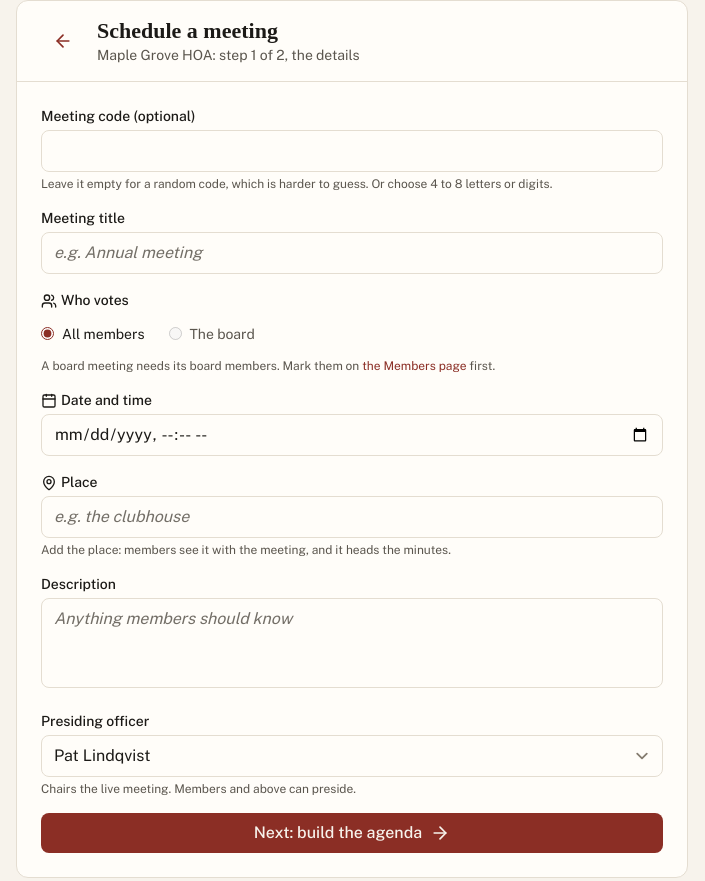
Test: MeetingScheduler › shows the server's message when the packet can't be created
Step 1. Type "Annual Meeting" into the field labelled "Meeting title" → (352,252), box x1=41 y1=232 x2=663 y2=274
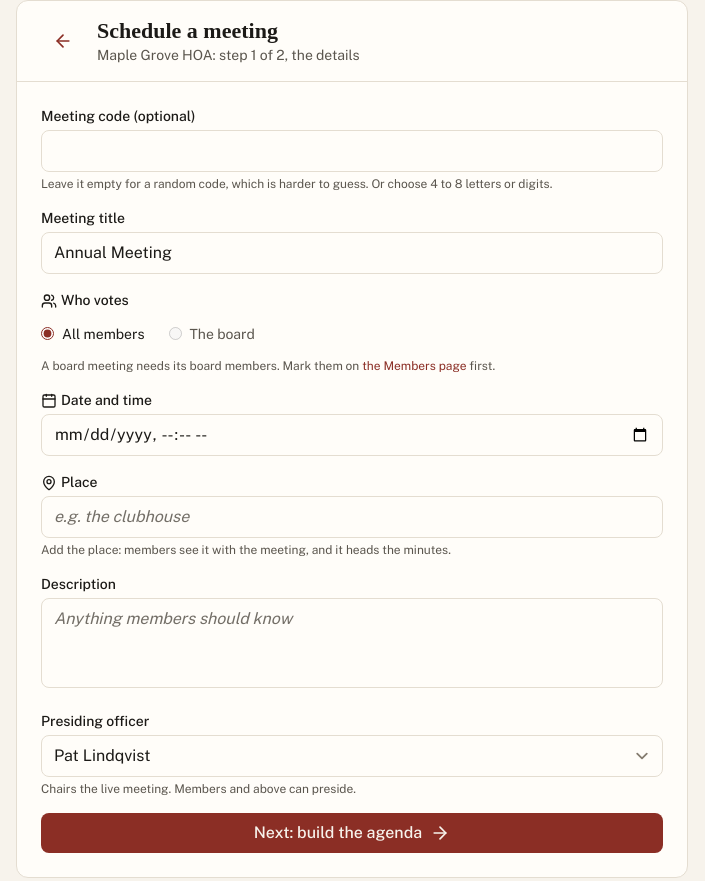
Step 2. Click the button "Next: build the agenda" → (352,832), box x1=41 y1=812 x2=663 y2=852
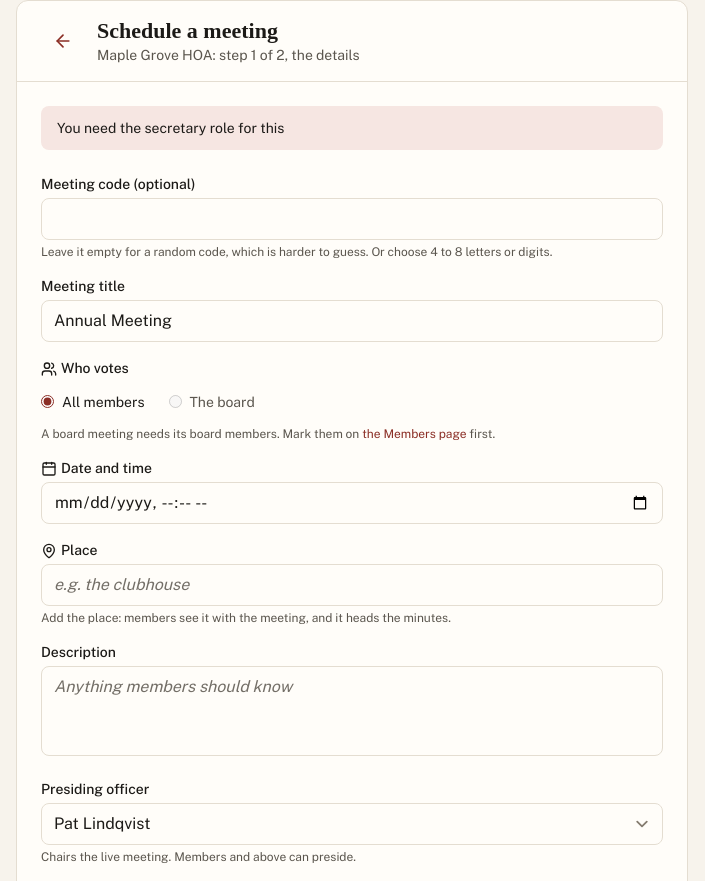
Now the text "You need the secretary role for this" is shown, box x1=41 y1=106 x2=663 y2=150
